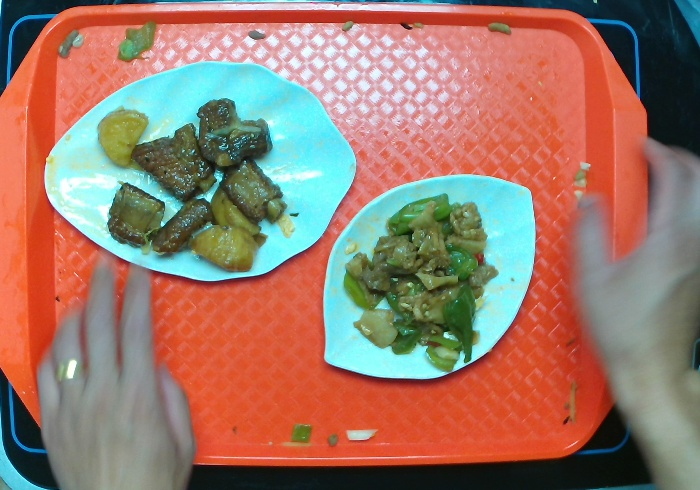RJxy-Bai_Ye_Pan: (41, 53, 363, 287)
RJxy-Da_Du_Pan: (318, 167, 544, 385)
